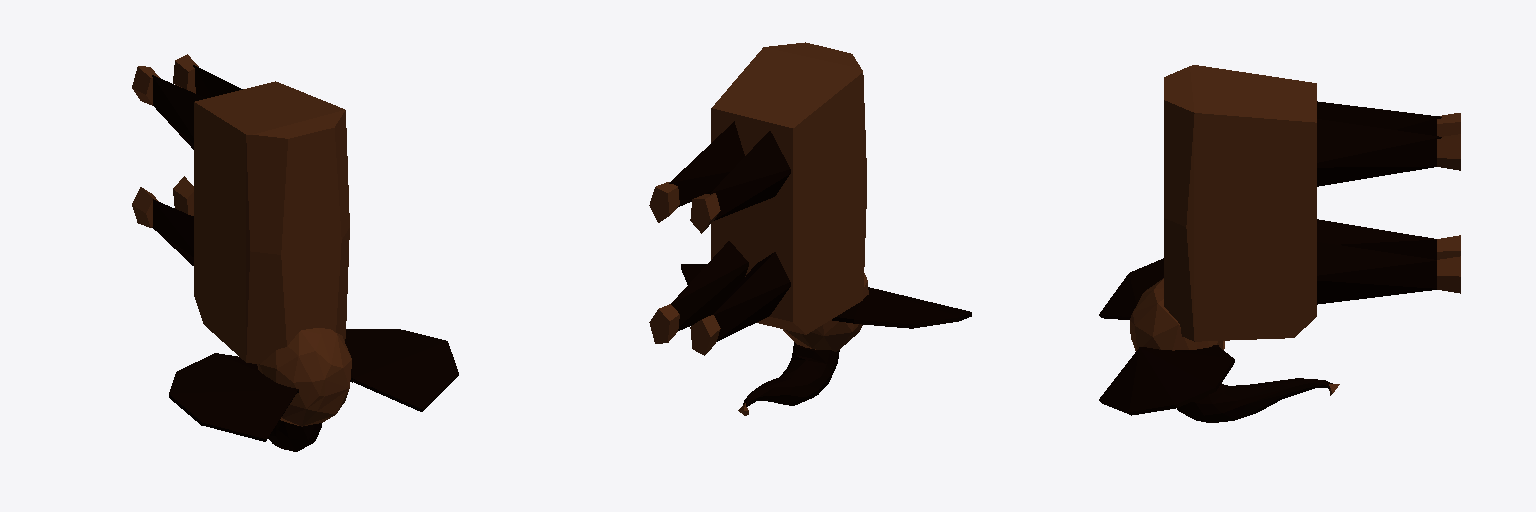
Rendered from elephant.obj.
3 views of the same model, side by side, from view 1: azimuth 30°, elevation 25°; view 2: azimuth 150°, elevation 25°; view 3: azimuth 270°, elevation 25° (orthographic).
Visible parts, largest first — view 1: object_10, object_8, object_9, object_13, object_5.003, object_7.001, object_12, object_4.004, object_1.004, object_2.003, object_3.004, object_19; view 2: object_10, object_5.003, object_7.001, object_8, object_6.001, object_12, object_4.004, object_13, object_19, object_1.004, object_3.004, object_2.003; view 3: object_10, object_9, object_4.004, object_6.001, object_12, object_13, object_7.001, object_5.003, object_8, object_19, object_1.004.
Boxes of the visible parts, x1,y1,x2,y2 form: object_10: [194, 81, 349, 363]; object_8: [169, 353, 298, 441]; object_9: [345, 329, 458, 411]; object_13: [257, 328, 351, 426]; object_5.003: [152, 75, 206, 149]; object_7.001: [152, 199, 193, 265]; object_12: [268, 420, 321, 451]; object_4.004: [193, 65, 242, 97]; object_1.004: [173, 54, 198, 93]; object_2.003: [132, 66, 159, 105]; object_3.004: [132, 187, 158, 227]; object_19: [173, 176, 193, 215]; object_10: [711, 42, 866, 334]; object_5.003: [710, 131, 790, 220]; object_7.001: [713, 252, 790, 341]; object_8: [832, 287, 971, 328]; object_6.001: [671, 241, 748, 330]; object_12: [743, 342, 839, 406]; object_4.004: [669, 121, 744, 207]; object_13: [783, 273, 868, 351]; object_19: [649, 304, 679, 343]; object_1.004: [649, 182, 679, 222]; object_3.004: [690, 315, 720, 355]; object_2.003: [690, 193, 720, 233]; object_10: [1164, 65, 1316, 341]; object_9: [1099, 345, 1234, 415]; object_4.004: [1317, 119, 1441, 186]; object_6.001: [1317, 242, 1436, 304]; object_12: [1177, 378, 1332, 422]; object_13: [1130, 278, 1224, 350]; object_7.001: [1317, 219, 1436, 259]; object_5.003: [1317, 101, 1441, 135]; object_8: [1099, 258, 1163, 319]; object_19: [1437, 256, 1460, 293]; object_1.004: [1437, 134, 1460, 170].
Bounding box in the file's own units: 14.22 × 16.17 × 16.